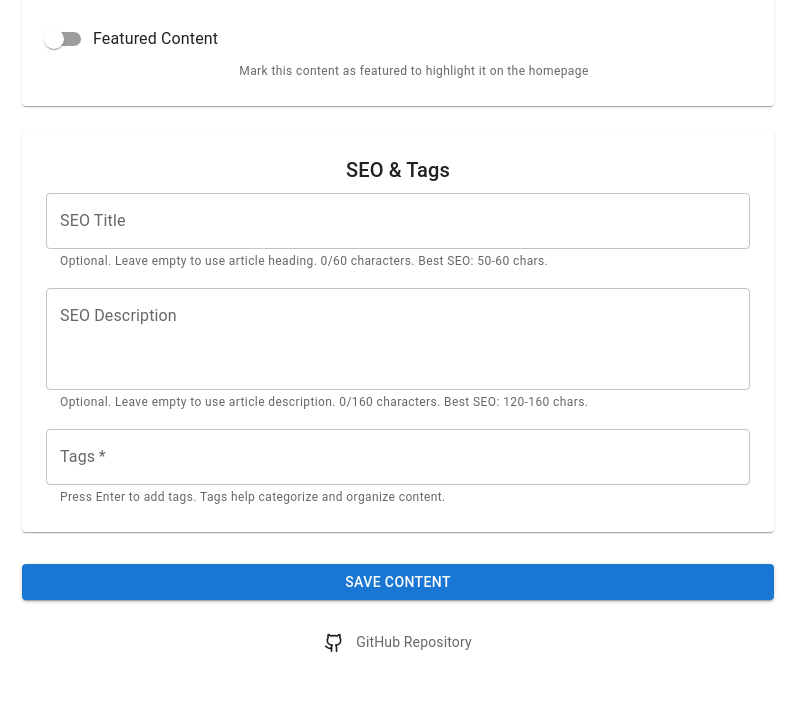
CMSForm › Form Validation › should display validation errors for empty required fields
(page scrolled)
Click the button "Save Content": (398, 582) x1=22 y1=564 x2=774 y2=600
(page scrolled)
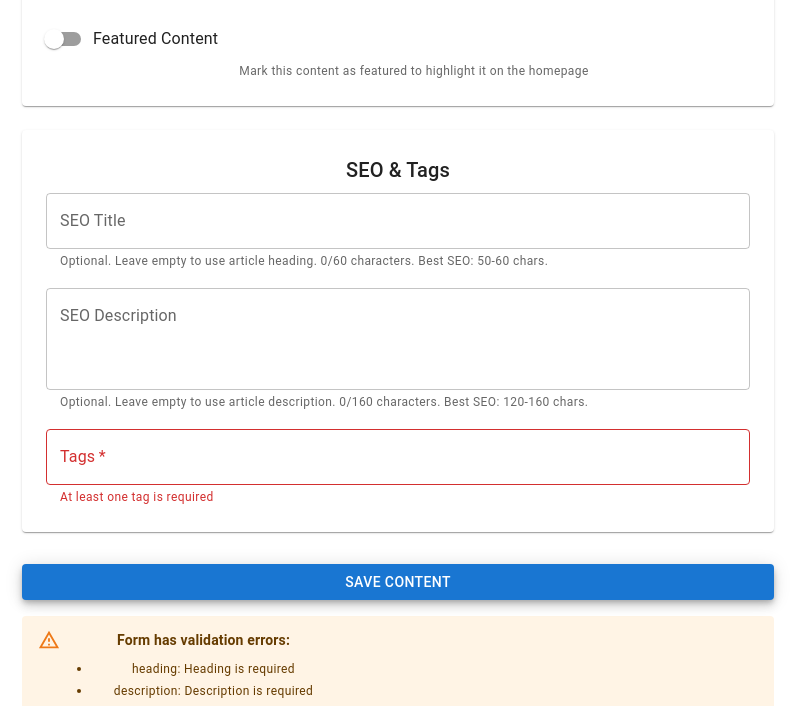
Now the text "Form has validation errors:" is shown, box x1=117 y1=632 x2=290 y2=648
